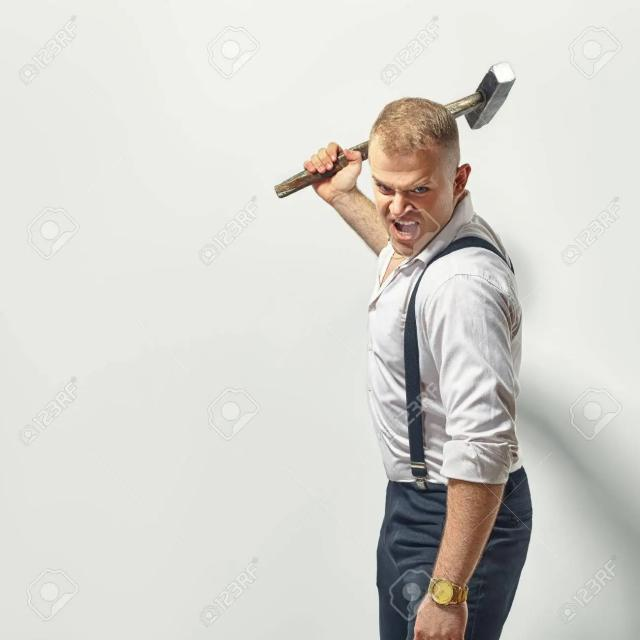hammer: (268, 53, 532, 208)
